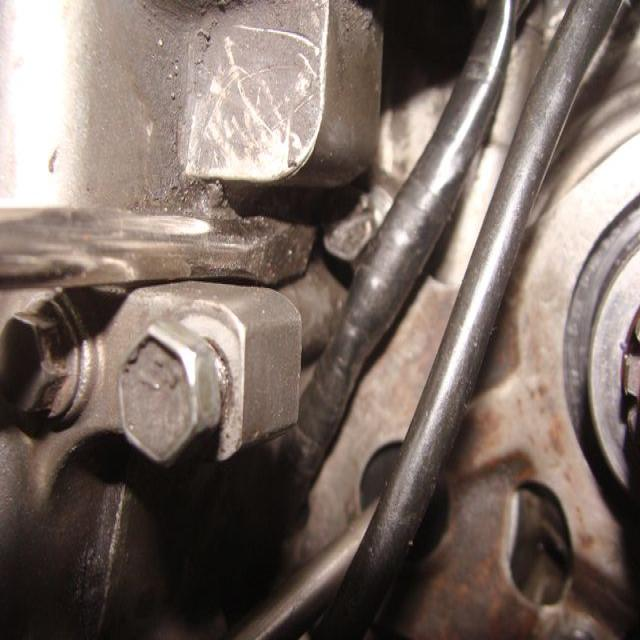bolt head: (115, 312, 224, 473)
